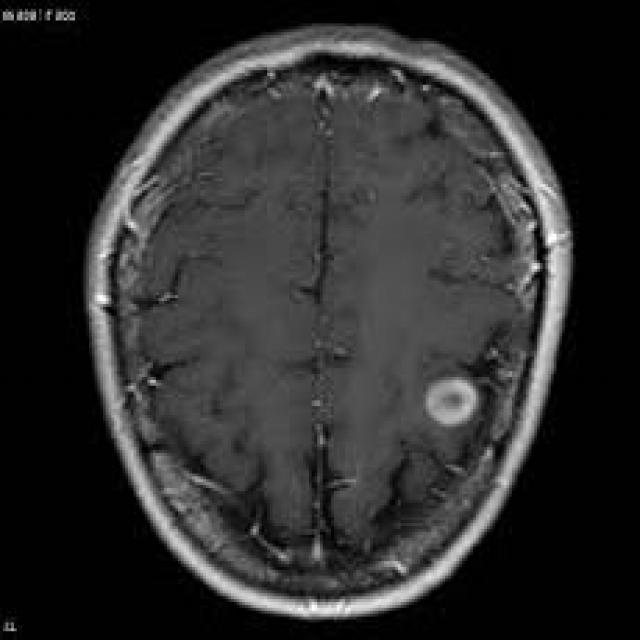Tumor: (420, 370, 476, 436)
